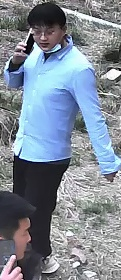phone: (4, 7, 86, 92), (2, 197, 36, 279)
